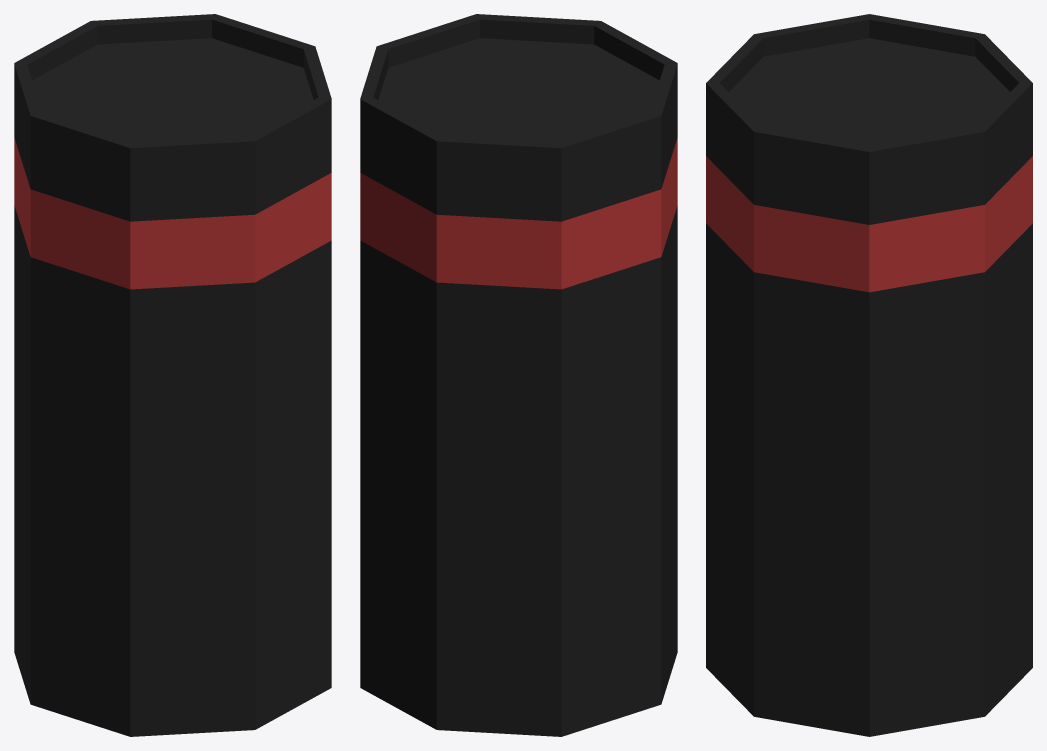
The model's file is SM_can_03.fbx.
The picture shows the model from 3 angles, left to right: view 1: azimuth 30°, elevation 25°; view 2: azimuth 150°, elevation 25°; view 3: azimuth 270°, elevation 25°; orthographic projection.
Visible parts, largest first — view 1: Cylinder036; view 2: Cylinder036; view 3: Cylinder036.
Boxes of the visible parts, <box> form: Cylinder036: <box>14,14,331,736</box>; Cylinder036: <box>360,14,677,736</box>; Cylinder036: <box>706,14,1032,736</box>.
Bounding box in the file's own units: 4.44 × 4.44 × 8.78.
